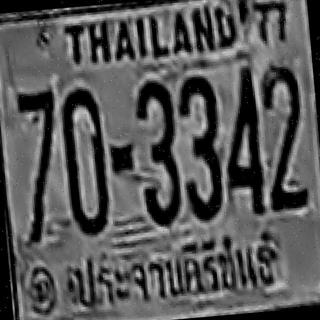N03: (176, 91, 224, 220)
N04: (217, 63, 265, 214), (218, 77, 265, 215)
N07: (15, 88, 59, 168)
P50: (65, 231, 287, 320)
